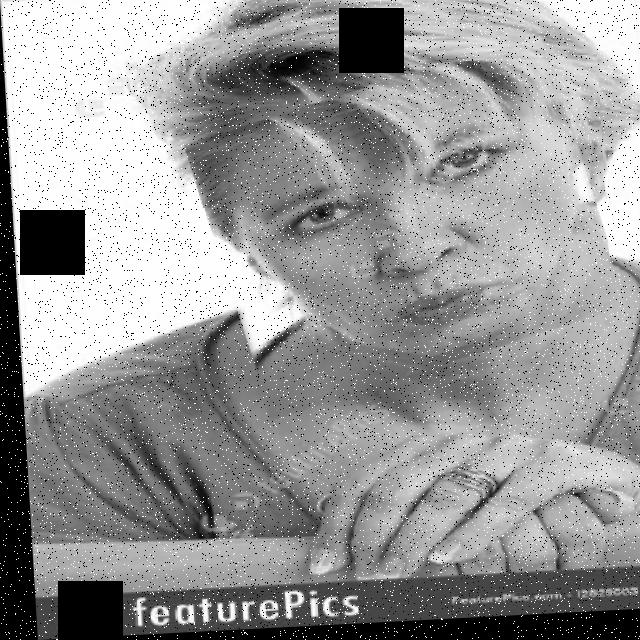sad: (194, 61, 611, 405)
